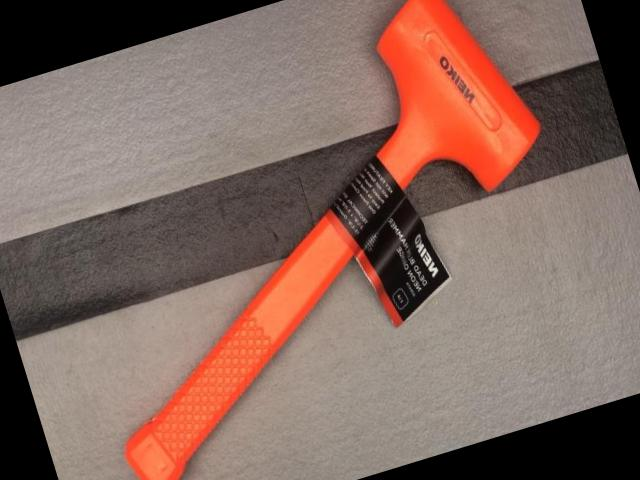hammer: (19, 0, 613, 480)
